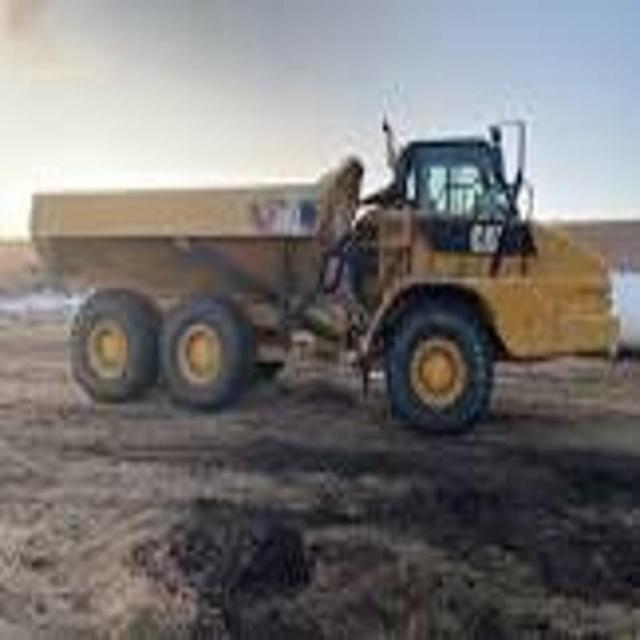dump_truck: (38, 120, 623, 440)
